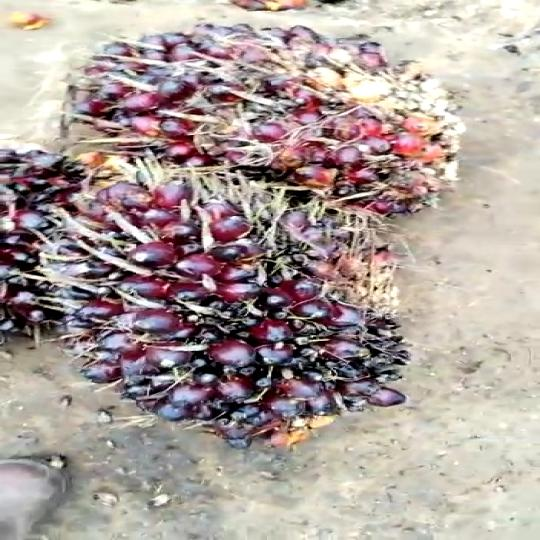kurang masak: (21, 155, 437, 448), (74, 18, 500, 226)
